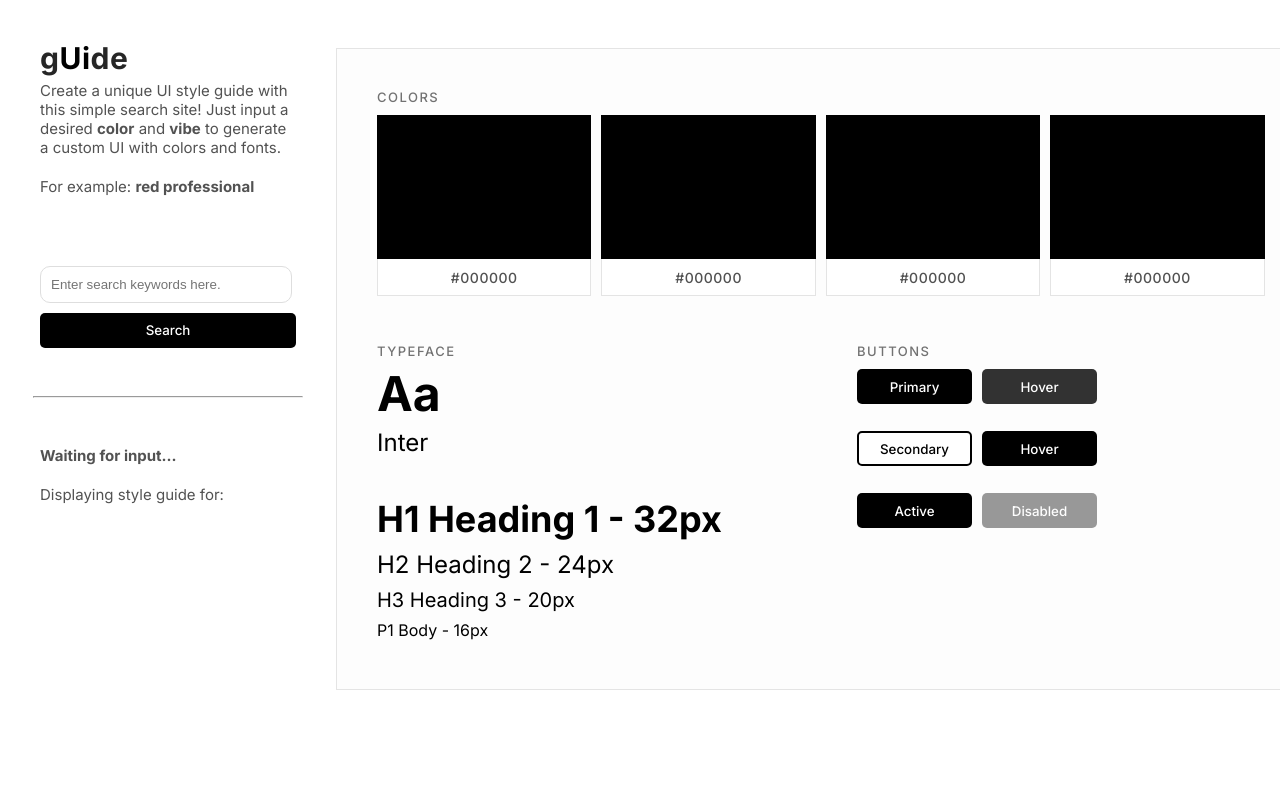
one word input search
Type "blue" into the field named "Search box" at x=166, y=284, box [40,266,292,303]
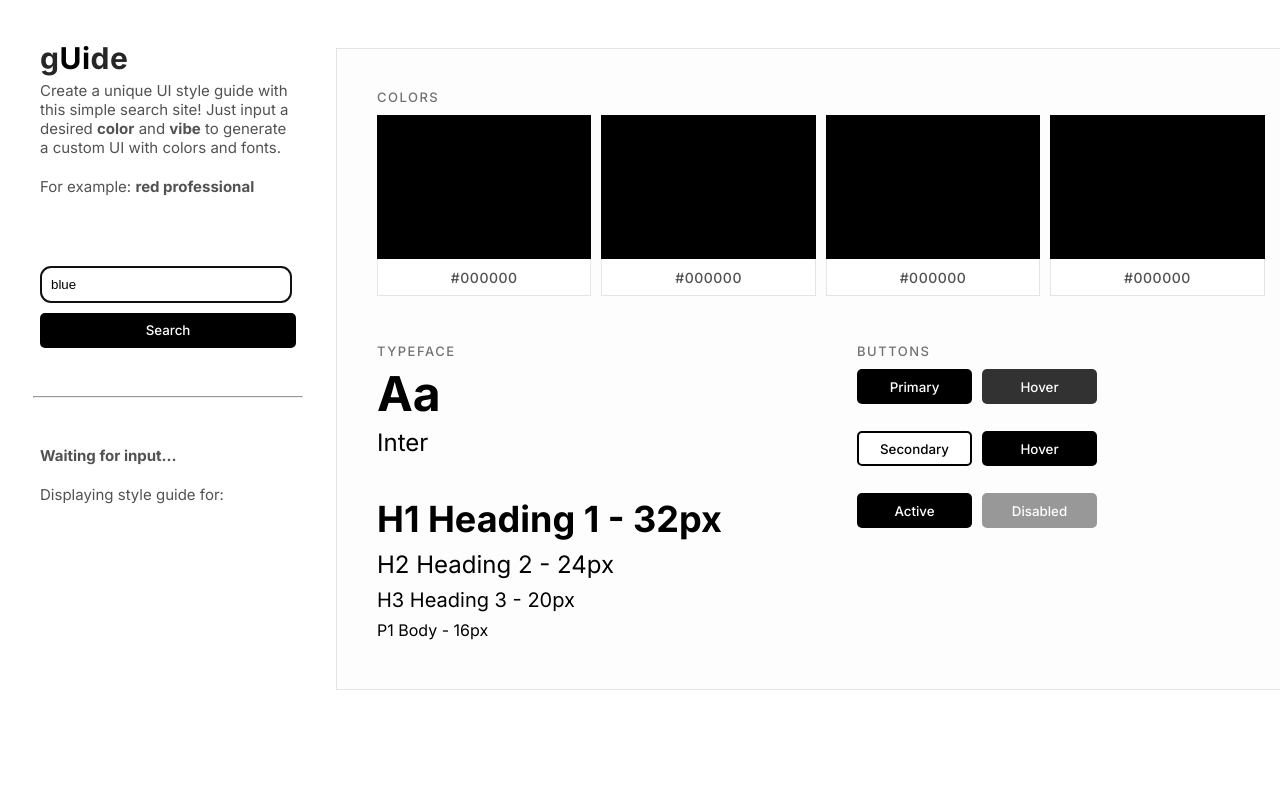
Click the button with aria-label "Search button" at x=168, y=330, box [40,313,296,348]
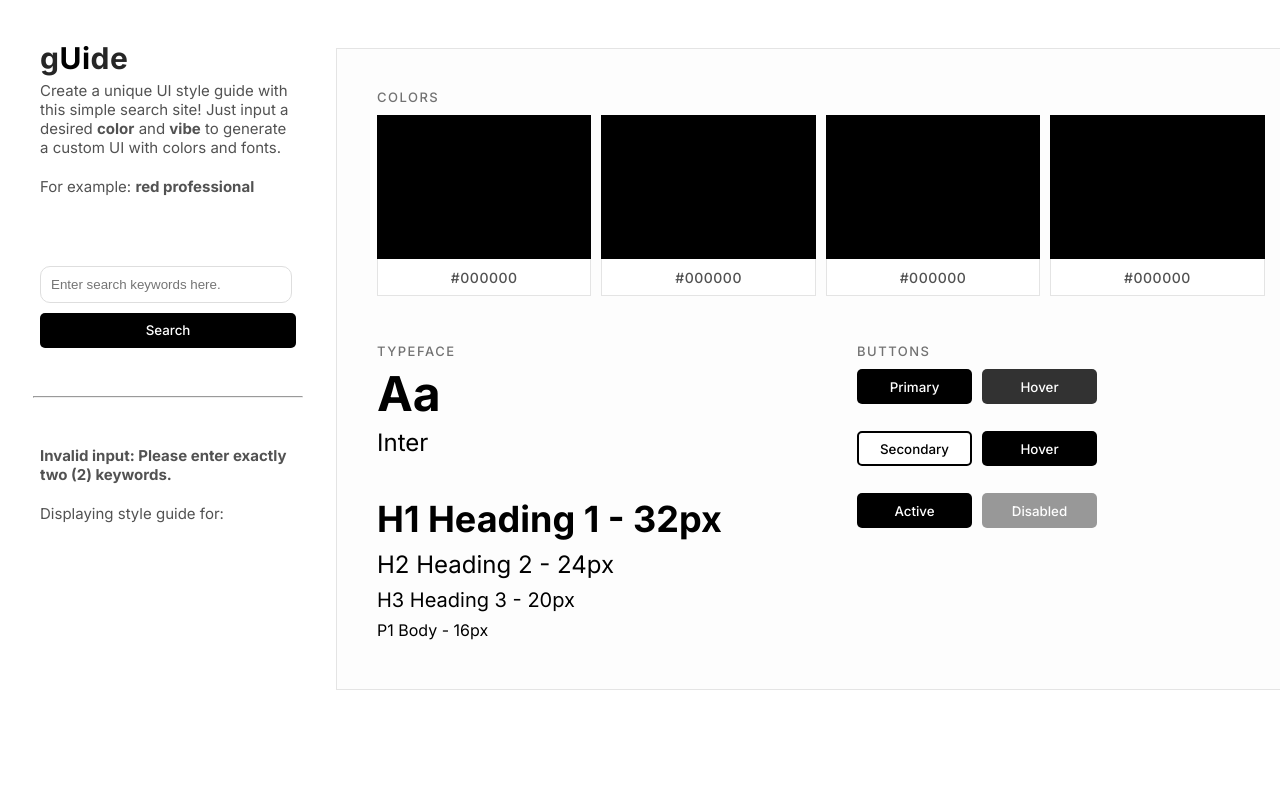
Check: the text "Invalid input: Please enter exactly two (2) keywords." is shown, box [40,446,286,484]
